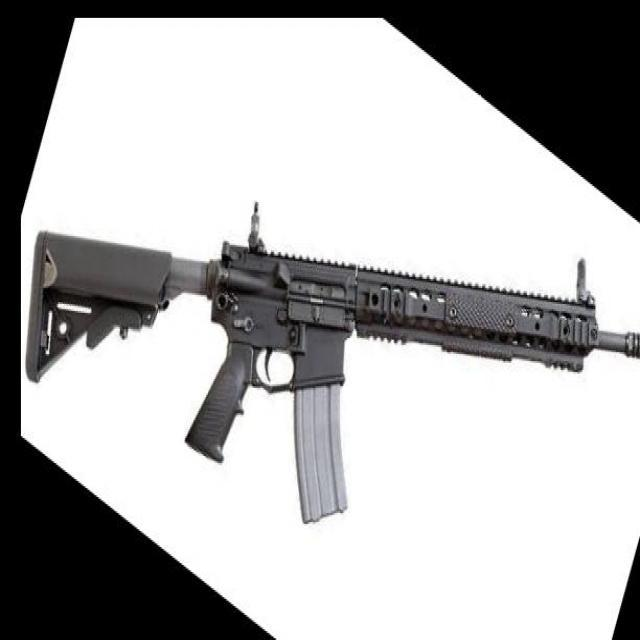weapon: (25, 200, 640, 525)
